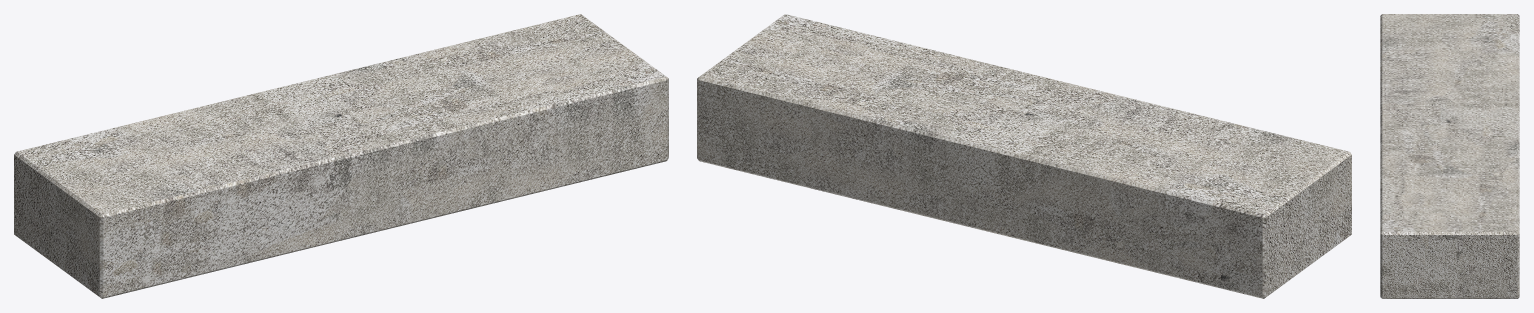
File: SM_Baeryeom_Step.fbx
3 renders of one model, left to right at view 1: azimuth 30°, elevation 25°; view 2: azimuth 150°, elevation 25°; view 3: azimuth 270°, elevation 25°, orthographic. The views are drawn at different scales.
Visible parts, largest first — view 1: SM_Baeryeom_Step; view 2: SM_Baeryeom_Step; view 3: SM_Baeryeom_Step.
Part boxes in pixels (left/top/right/bottom): SM_Baeryeom_Step: left=14, top=14, right=668, bottom=298; SM_Baeryeom_Step: left=697, top=14, right=1351, bottom=298; SM_Baeryeom_Step: left=1380, top=14, right=1519, bottom=298.
Bounding box in the file's own units: 123 × 17.49 × 33.04.
